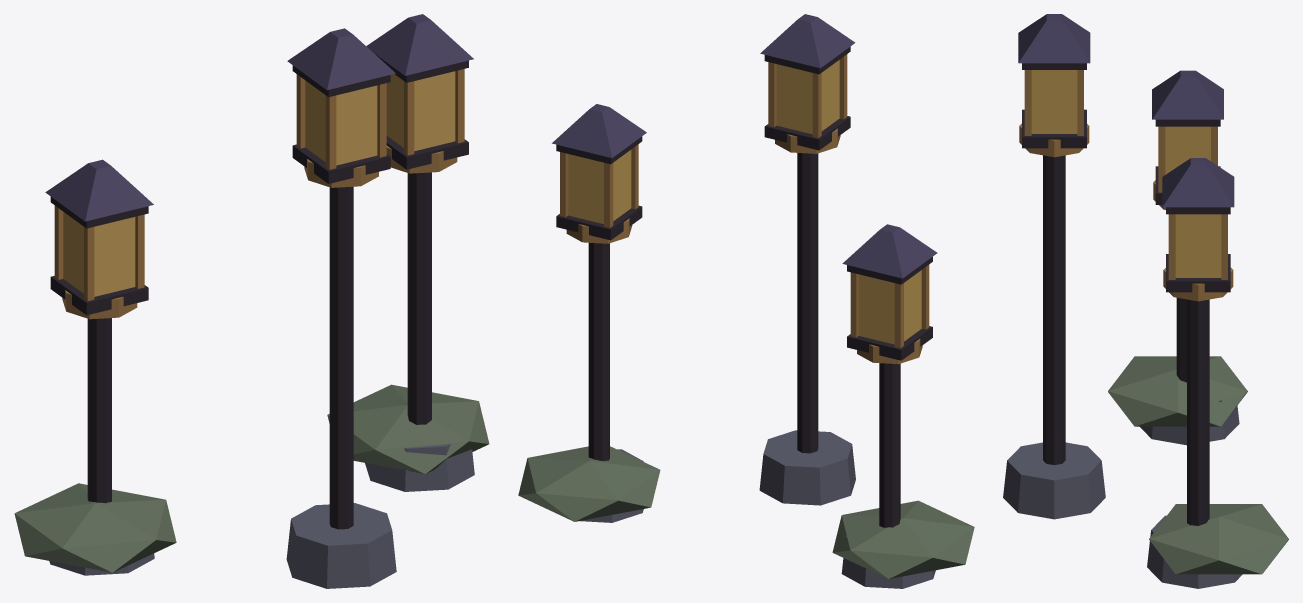
Rendered from HauntedWoods_LanternCluster_Showcase.glb.
3 renders of one model, left to right at view 1: azimuth 30°, elevation 25°; view 2: azimuth 150°, elevation 25°; view 3: azimuth 270°, elevation 25°, orthographic. The views are drawn at different scales.
Visible parts, largest first — view 1: HauntedWoods_LanternCluster_Showcase; view 2: HauntedWoods_LanternCluster_Showcase; view 3: HauntedWoods_LanternCluster_Showcase.
Part boxes in pixels (bbox=[...]): HauntedWoods_LanternCluster_Showcase: bbox=[14, 14, 489, 588]; HauntedWoods_LanternCluster_Showcase: bbox=[518, 14, 974, 588]; HauntedWoods_LanternCluster_Showcase: bbox=[1003, 14, 1288, 588].
Bounding box in the file's own units: 2.42 × 2.58 × 1.39.
